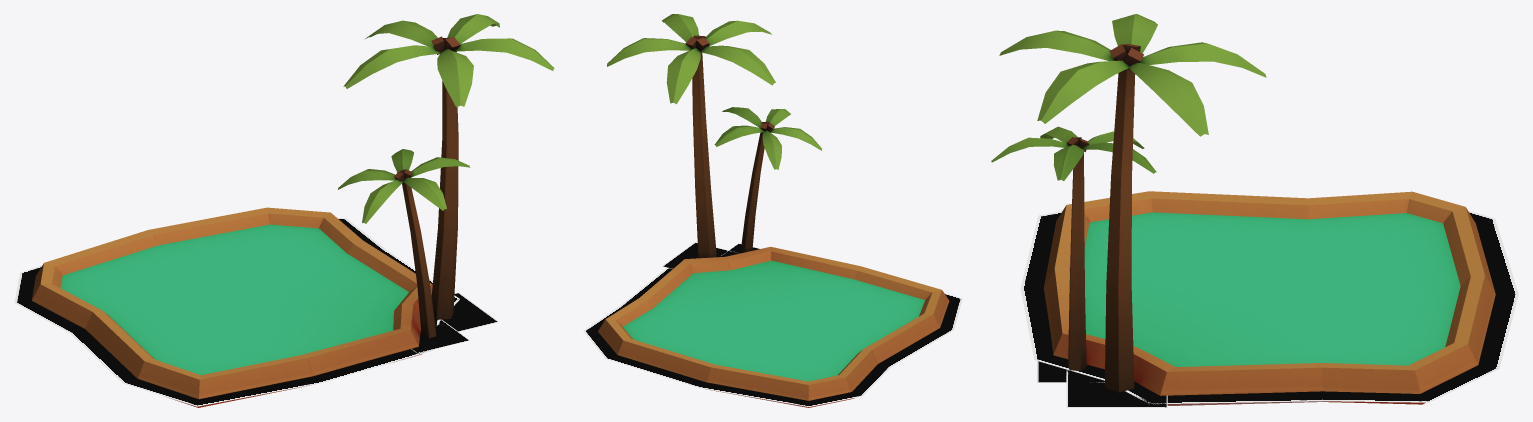
Rendered from 4x4_pond.FBX.
3 views of the same model, side by side, from view 1: azimuth 30°, elevation 25°; view 2: azimuth 150°, elevation 25°; view 3: azimuth 270°, elevation 25° (orthographic). The views are drawn at different scales.
Visible parts, largest first — view 1: 4x4_pond, 4x4_pond_soft_shadow; view 2: 4x4_pond, 4x4_pond_soft_shadow; view 3: 4x4_pond, 4x4_pond_soft_shadow.
Boxes of the visible parts, x1,y1,x2,y2 form: 4x4_pond: (31,14,554,407); 4x4_pond_soft_shadow: (14,217,498,406); 4x4_pond: (598,14,949,407); 4x4_pond_soft_shadow: (583,242,962,406); 4x4_pond: (991,14,1495,405); 4x4_pond_soft_shadow: (1020,210,1518,407).
Size of the model in its own units: 5200 by 3531 by 4738.
